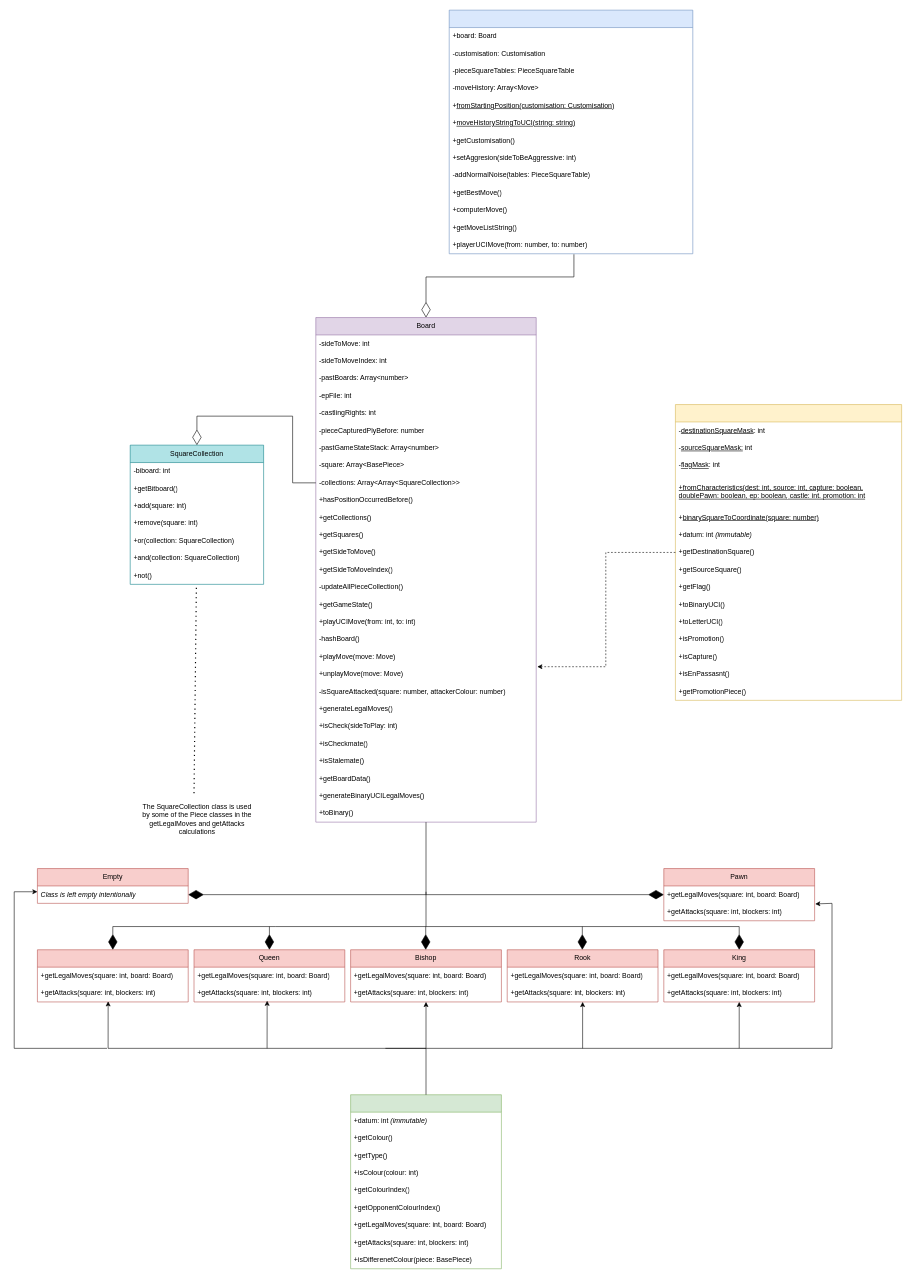
The diagram is 912 pixels wide and 1279 high, and some of its shapes have lost their labels. The shapes that lost their labels are listed below. From the top down, each one's box as (x1, y1, x2, y2) in pixels, then its label:
(449, 10, 693, 254): Engine
(675, 404, 902, 700): Move
(37, 949, 188, 1002): Knight
(350, 1094, 501, 1269): <Abstract> BasePiece
